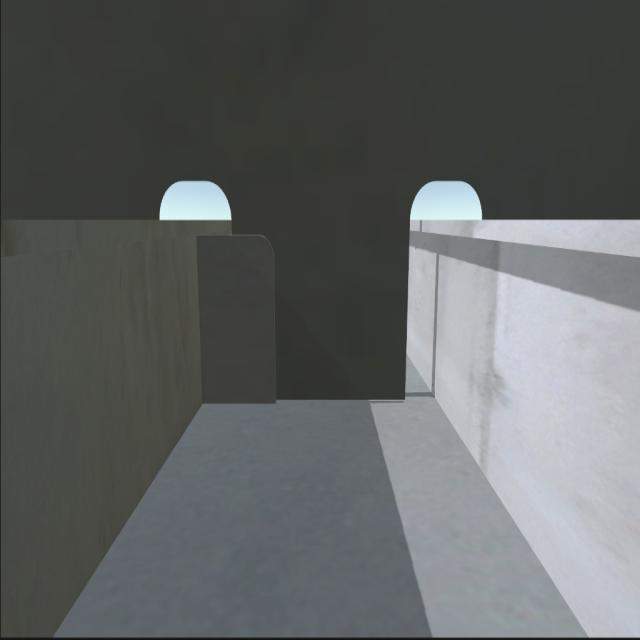fillet_yong_jeop_jang: (202, 389, 404, 416)
longi_yong_jeop_jang: (187, 230, 213, 404)
plate_CP05: (190, 232, 279, 406)
